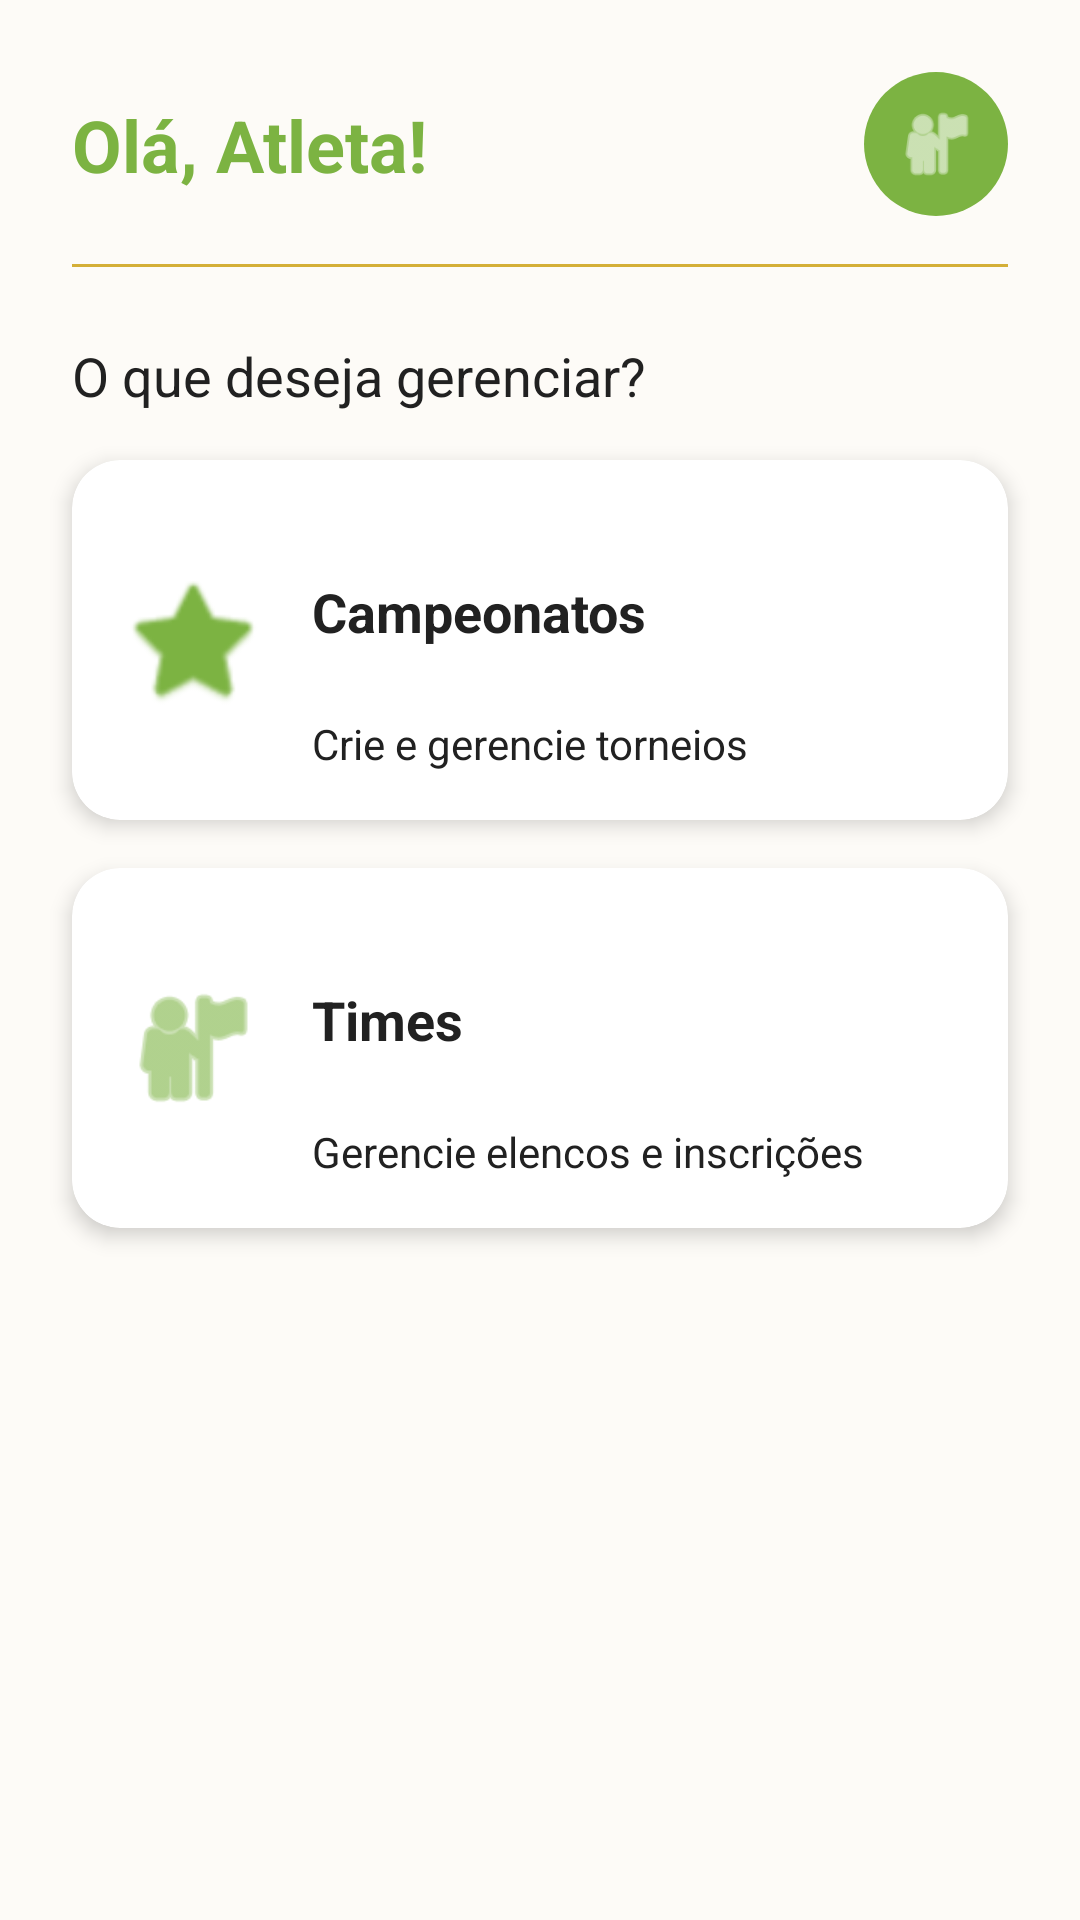

Screen size 1080px×1920px. Icon name, then its center in pixels as [x,y]:
star: [193,641]
